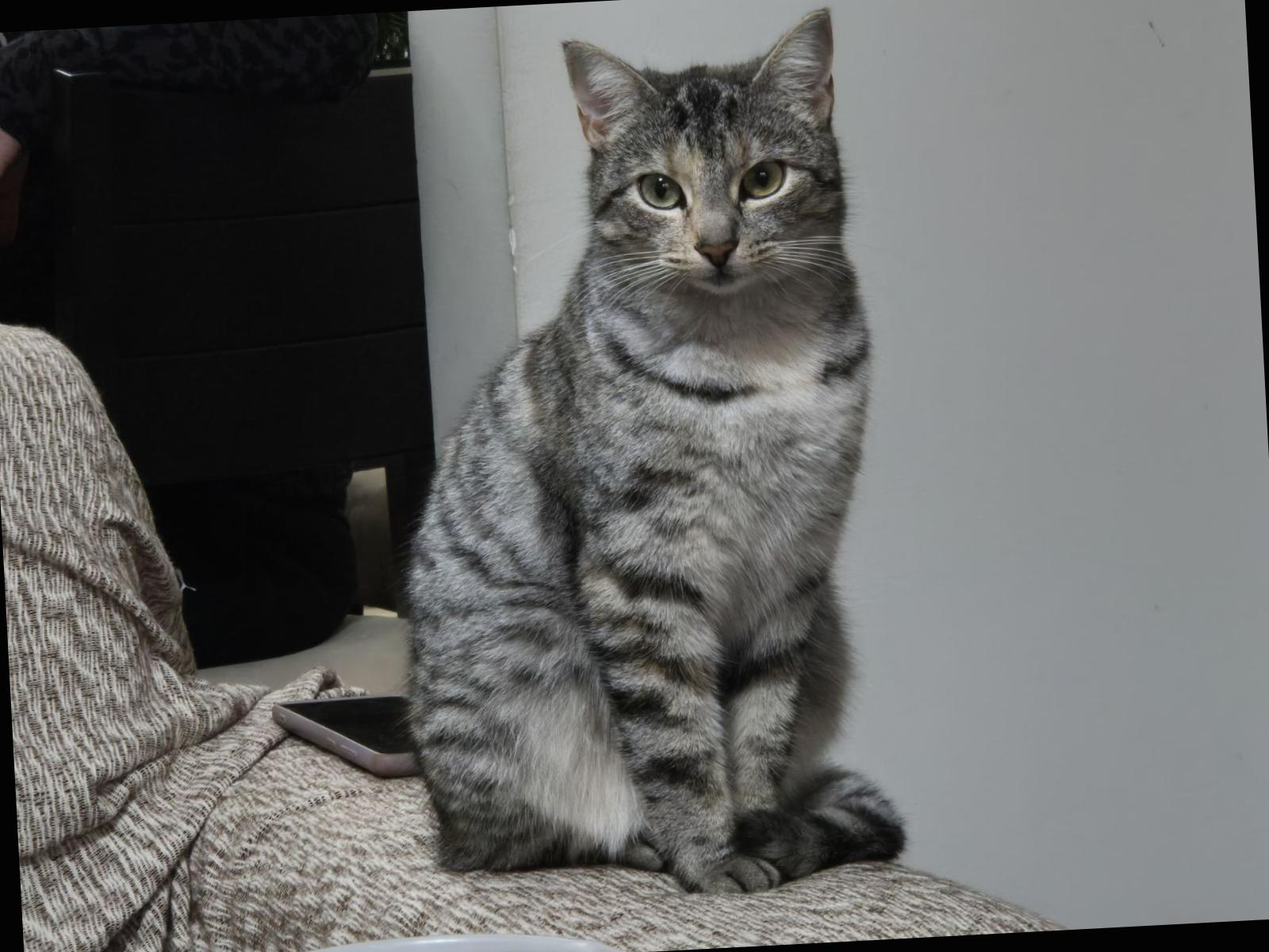macka: (371, 4, 912, 911)
